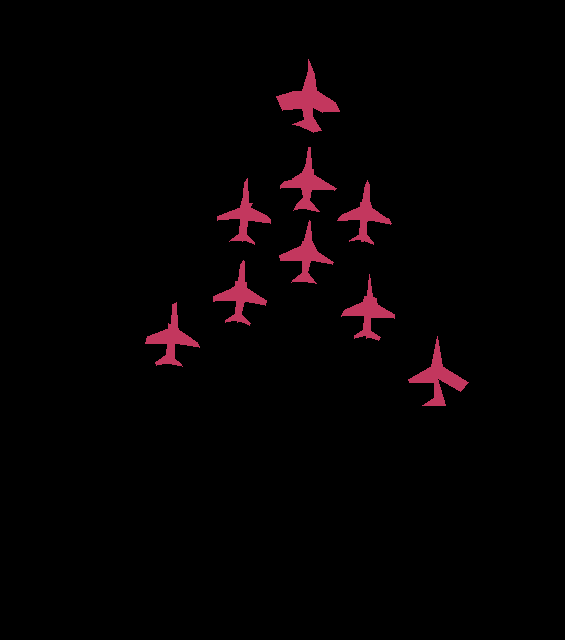Airplane: (276, 59, 340, 132), (408, 336, 469, 405), (341, 274, 395, 341), (280, 147, 336, 211), (337, 180, 392, 245), (145, 302, 200, 367), (213, 260, 267, 326), (217, 178, 271, 244), (279, 220, 334, 284)
